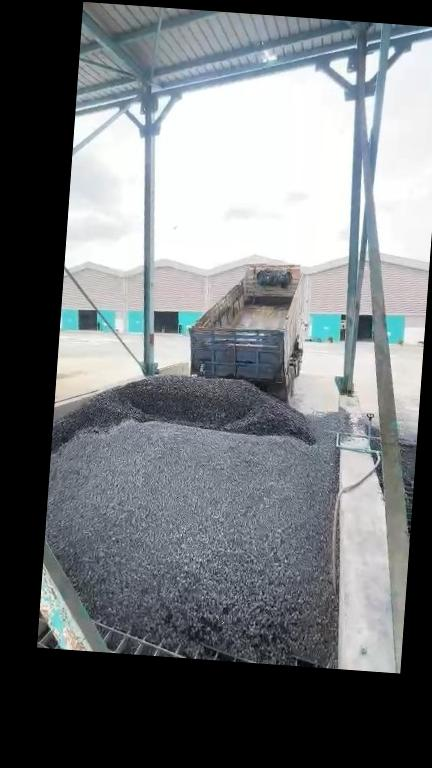gravel: (46, 405, 354, 665), (52, 376, 316, 450), (400, 436, 417, 541)
